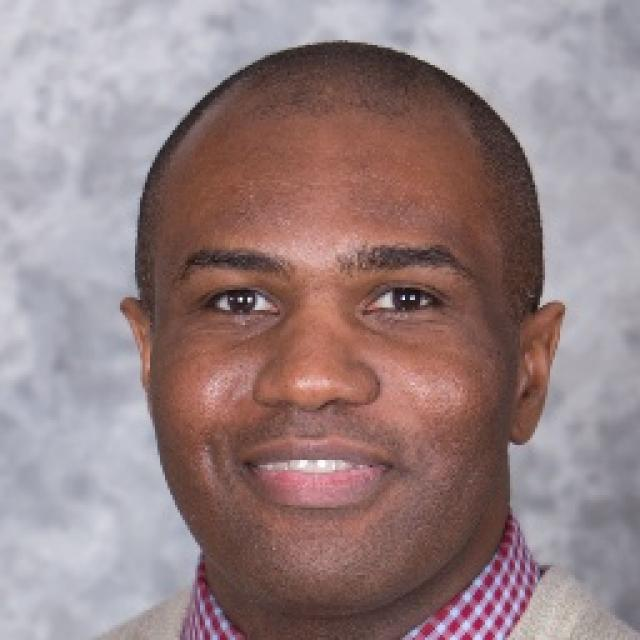earlobe: (508, 300, 567, 446), (117, 296, 153, 392)
